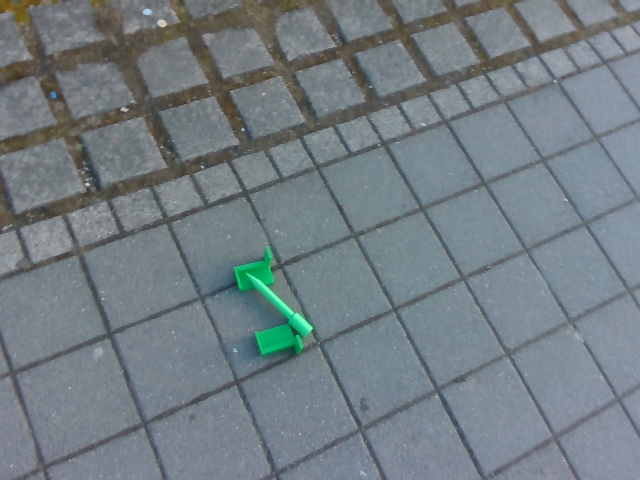Probe: (241, 273, 316, 340)
